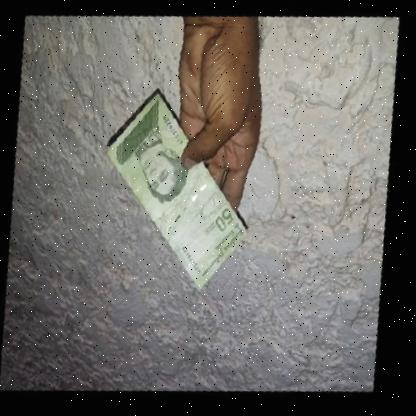fifty-front-vef: (84, 83, 271, 300)
